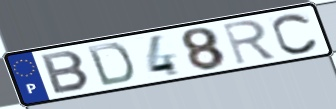4: (143, 33, 184, 78)
8: (180, 25, 229, 72)
B: (39, 49, 94, 96)
C: (271, 12, 322, 56)
D: (84, 42, 137, 88)
R: (220, 18, 279, 67)
